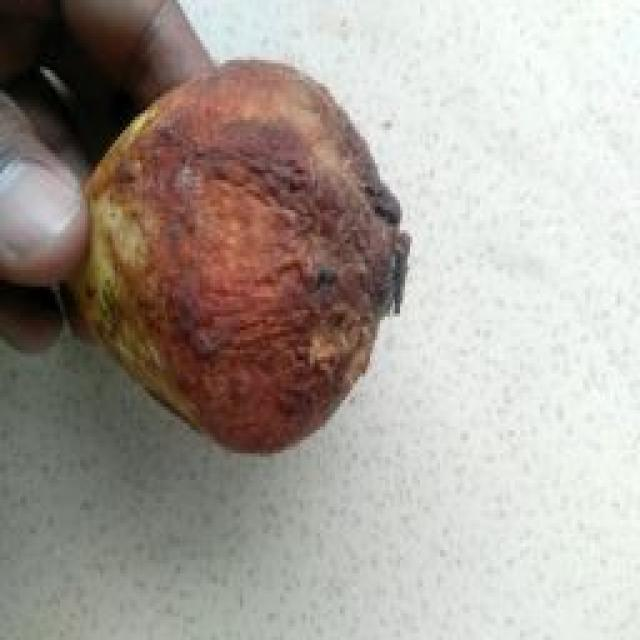Bad_Guava: (70, 62, 410, 451)
